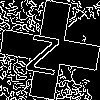Z: (25, 25, 63, 75)
